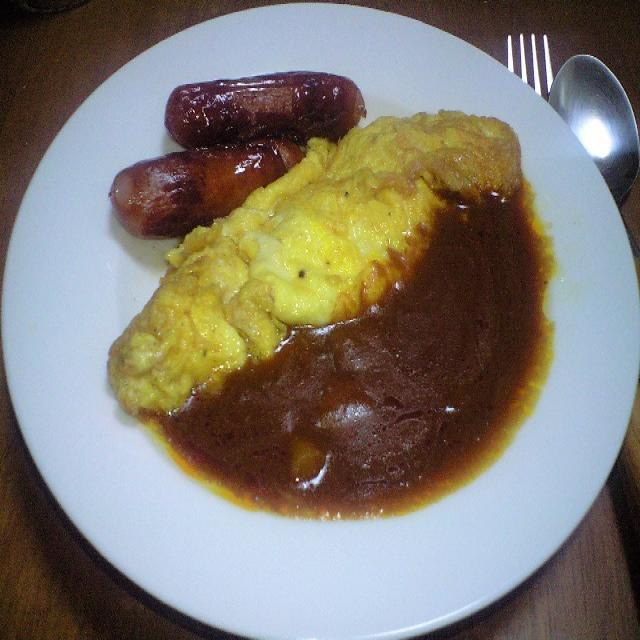鸡蛋料理: (92, 85, 580, 432)
